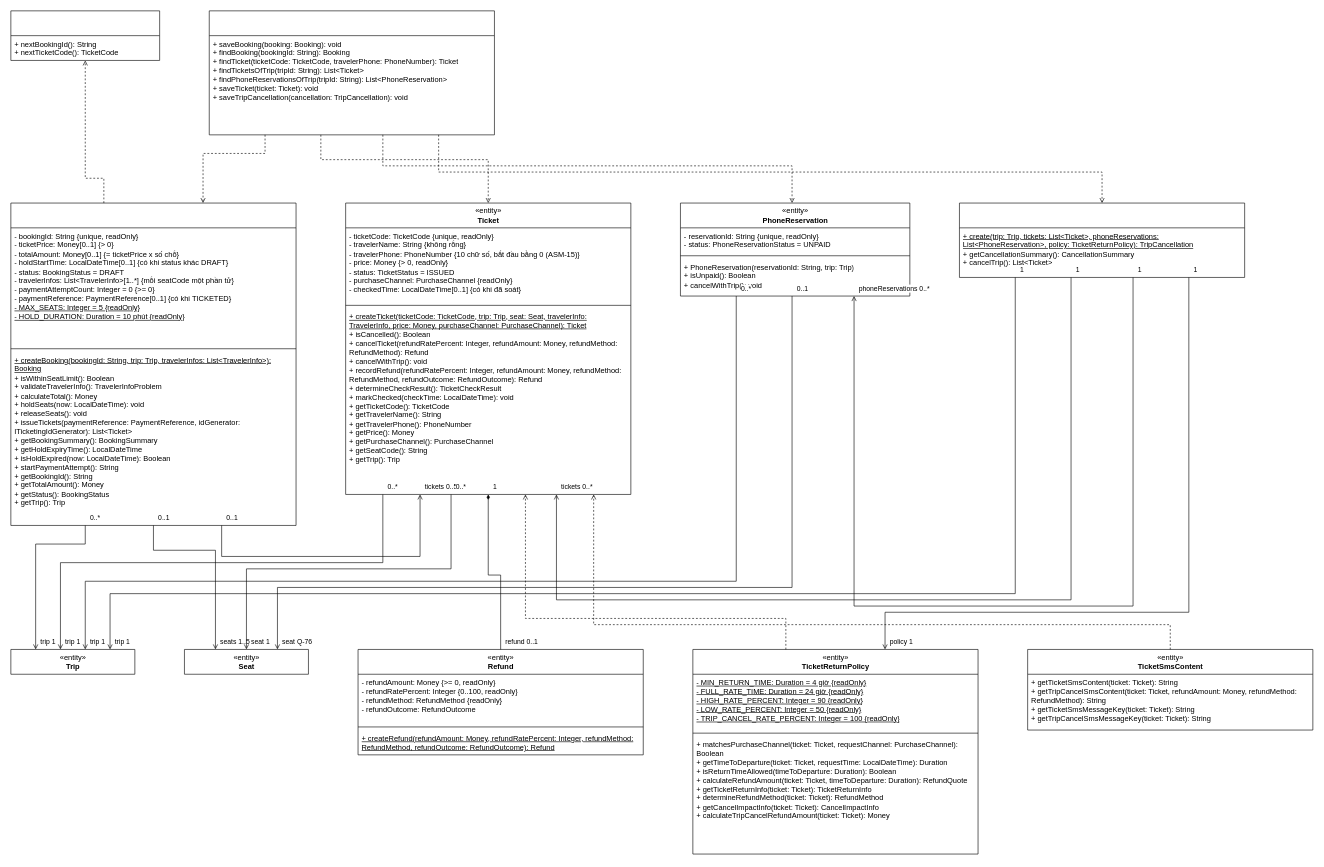
Image size: 1324x867. Some labels were removed from this diagram. Each missing label, with the box of its shape:
«entity» Booking: (10, 202, 296, 525)
«entity» TripCancellation: (959, 202, 1245, 277)
«interface» ITicketingIdGenerator: (10, 10, 160, 60)
«interface» ITicketingRepository: (209, 10, 494, 135)
